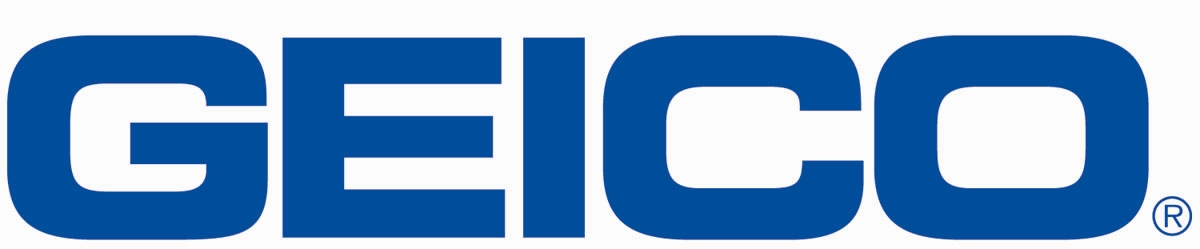Geico: (6, 21, 1199, 249)
